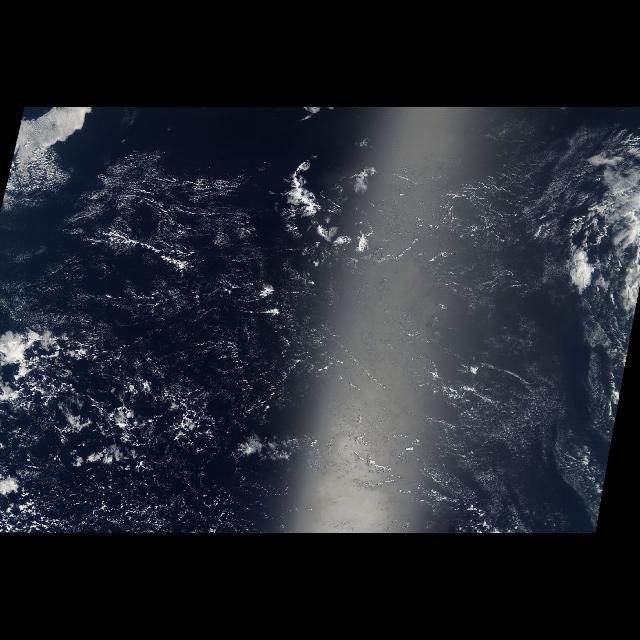Gravel: (59, 356, 231, 532), (93, 150, 254, 276)
Sugar: (393, 137, 631, 531), (88, 143, 260, 265)
